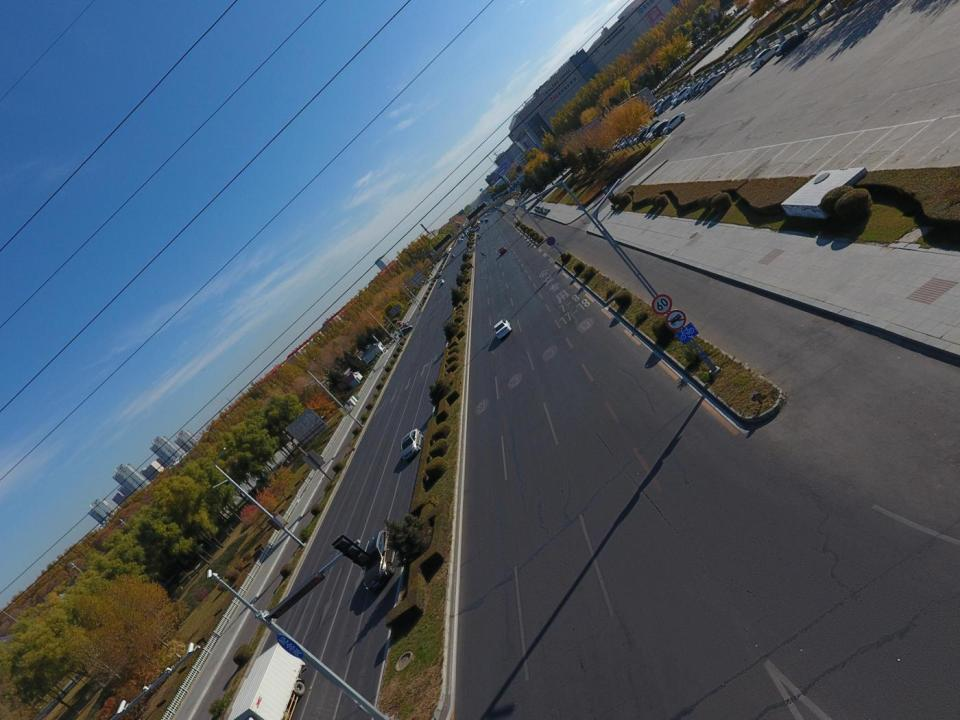car: (363, 525, 400, 594), (774, 30, 810, 56), (750, 44, 781, 70), (401, 427, 424, 460), (700, 71, 726, 92), (663, 112, 686, 134), (494, 320, 514, 340), (645, 120, 664, 141), (672, 86, 691, 106), (644, 99, 664, 118), (653, 119, 674, 137), (650, 119, 668, 140), (690, 79, 710, 97), (684, 82, 704, 100), (643, 119, 661, 139), (696, 77, 717, 93), (617, 133, 634, 150), (611, 134, 628, 151), (650, 100, 668, 116), (633, 127, 650, 143), (629, 130, 646, 146), (622, 131, 639, 147), (614, 134, 631, 150), (638, 126, 655, 141), (670, 90, 688, 103), (398, 326, 415, 338), (498, 245, 507, 256), (439, 279, 445, 285), (436, 272, 442, 278), (458, 238, 464, 243), (484, 218, 489, 223), (447, 248, 451, 252), (450, 255, 454, 258), (488, 213, 491, 216), (484, 214, 487, 217), (476, 228, 479, 230)
truck: (224, 642, 308, 720), (473, 224, 481, 230)
van: (654, 96, 676, 115), (476, 233, 482, 239), (480, 219, 483, 223)
